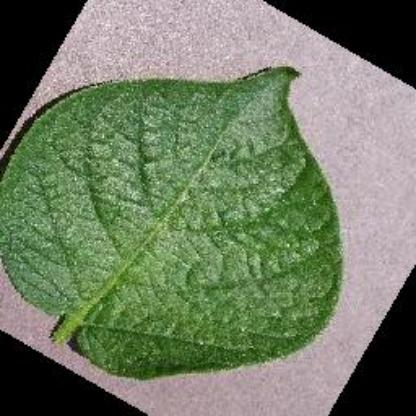Healthy-plant: (0, 50, 348, 384)
